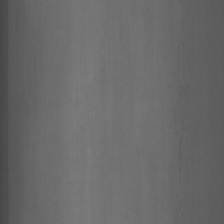silk_spot: (170, 36, 200, 146)
